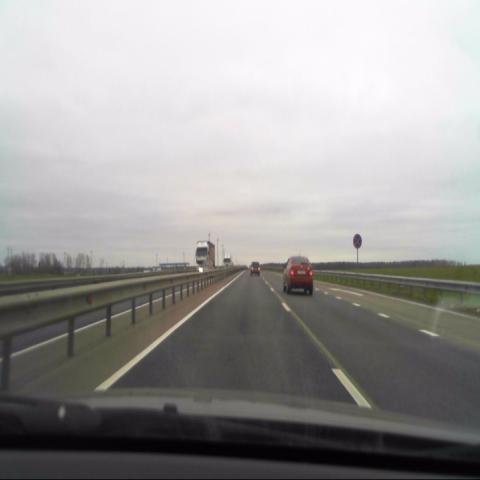3_27: (351, 234, 361, 250)
